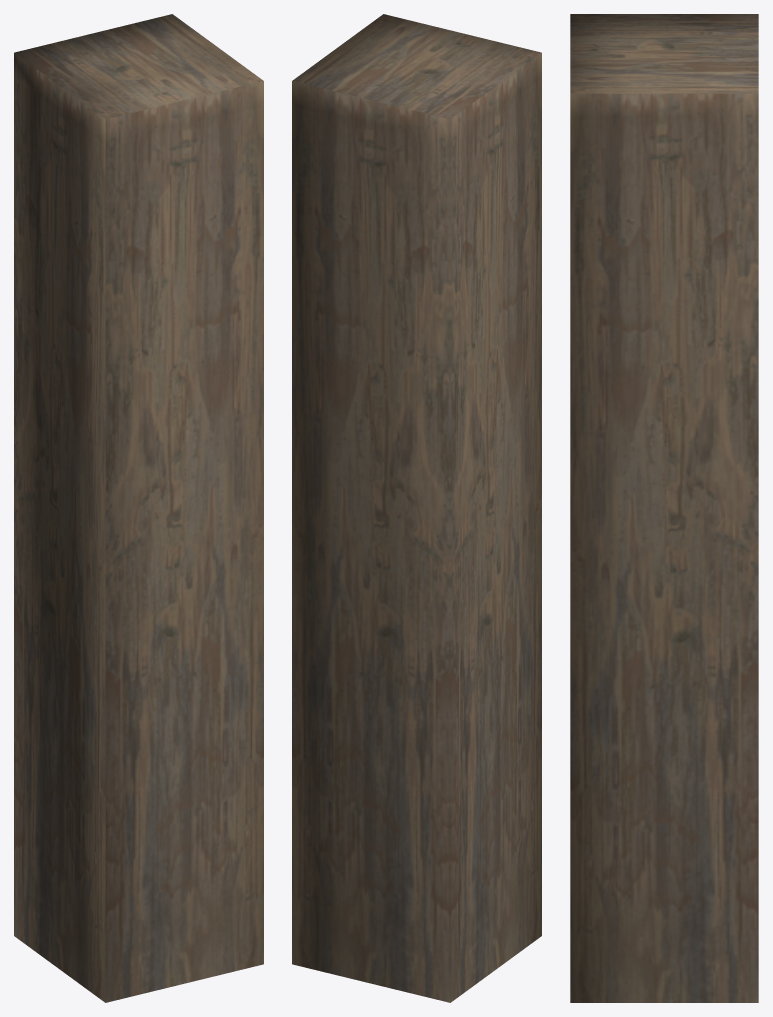
3 renders of one model, left to right at view 1: azimuth 30°, elevation 25°; view 2: azimuth 150°, elevation 25°; view 3: azimuth 270°, elevation 25°, orthographic. The views are drawn at different scales.
Visible parts, largest first — view 1: 963; view 2: 963; view 3: 963.
Boxes of the visible parts, <box> form: 963: <box>14,14,263,1002</box>; 963: <box>292,14,541,1002</box>; 963: <box>570,14,758,1002</box>.
Bounding box in the file's own units: 0.24 × 1.28 × 0.24.
1 material, 1 textured.
